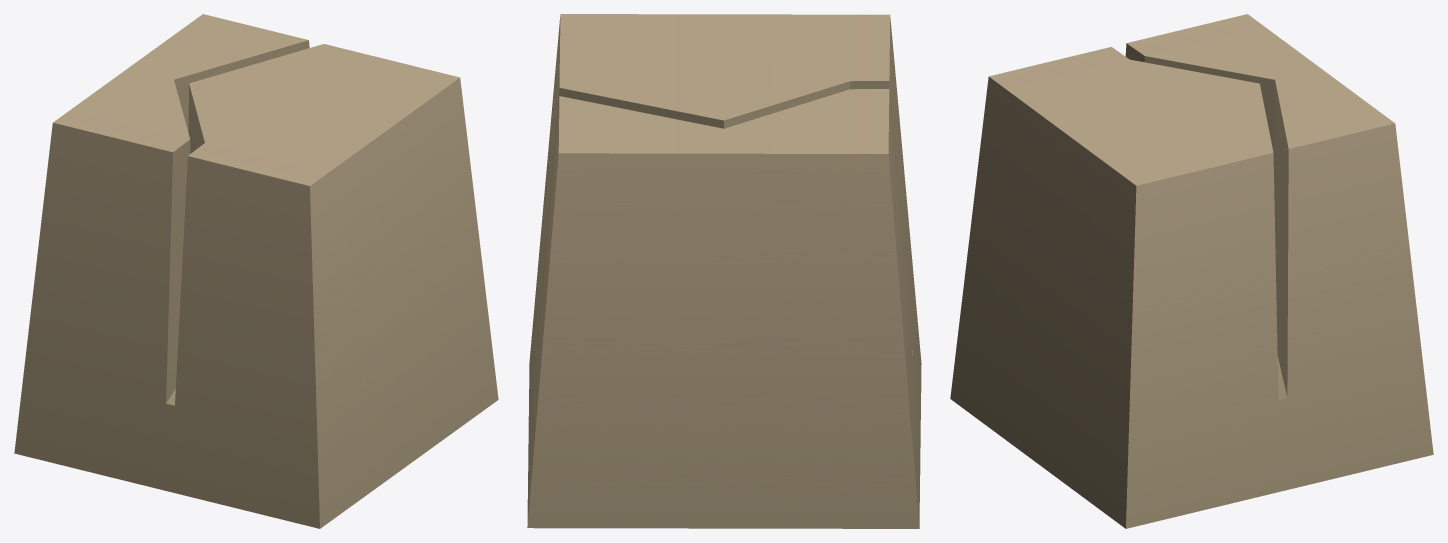
Rendered from Rock+1.fbx.
The picture shows the model from 3 angles, left to right: view 1: azimuth 30°, elevation 25°; view 2: azimuth 150°, elevation 25°; view 3: azimuth 270°, elevation 25°; orthographic projection. The views are drawn at different scales.
Parts seen in each view (by area): view 1: Rock 1; view 2: Rock 1; view 3: Rock 1.
Boxes of the visible parts, box(x1,y1,x2,y2) form: Rock 1: box(14, 14, 498, 528); Rock 1: box(527, 14, 921, 528); Rock 1: box(950, 14, 1433, 528).
Bounding box in the file's own units: 171 × 128 × 171.
